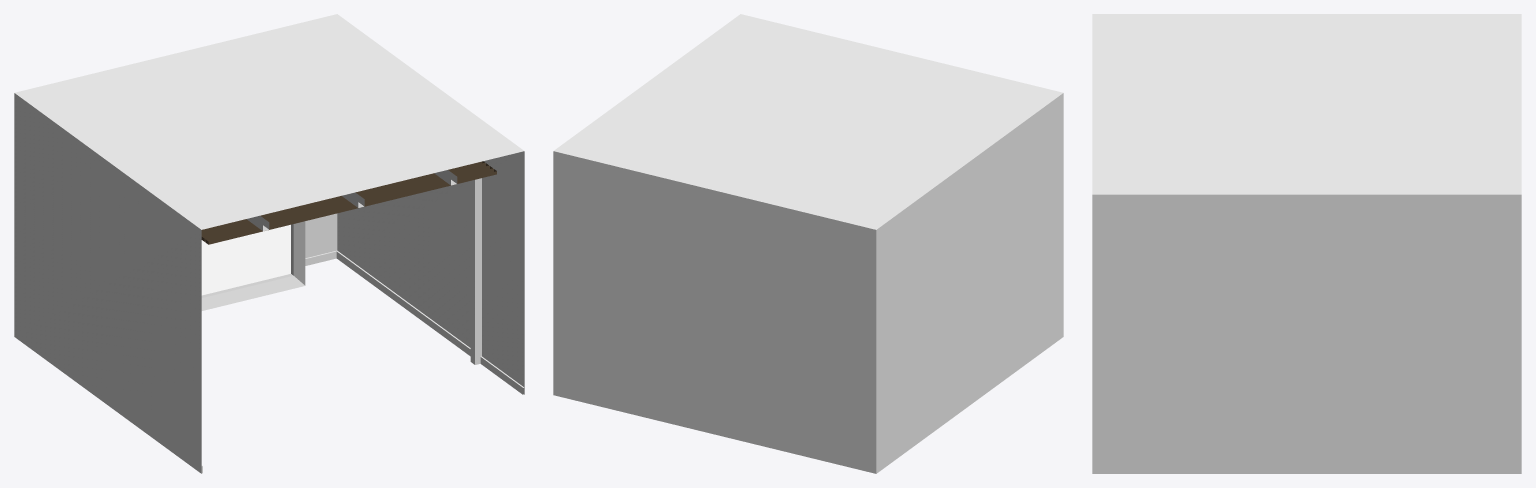
Rendered from exhibitionSpace.gltf.
3 renders of one model, left to right at view 1: azimuth 30°, elevation 25°; view 2: azimuth 150°, elevation 25°; view 3: azimuth 270°, elevation 25°, orthographic. The views are drawn at different scales.
Parts seen in each view (by area): view 1: exhibitionSpace; view 2: exhibitionSpace; view 3: exhibitionSpace.
Boxes of the visible parts, x1=… form: exhibitionSpace: x1=14, y1=14, x2=524, y2=473; exhibitionSpace: x1=553, y1=14, x2=1063, y2=473; exhibitionSpace: x1=1092, y1=14, x2=1521, y2=473.
Size of the model in its own units: 20 by 14.44 by 20.09.
